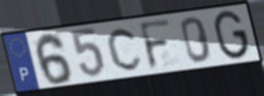0: (180, 14, 213, 65)
5: (68, 25, 107, 81)
6: (32, 30, 75, 86)
C: (106, 26, 145, 73)
F: (137, 18, 174, 72)
G: (212, 9, 251, 61)
